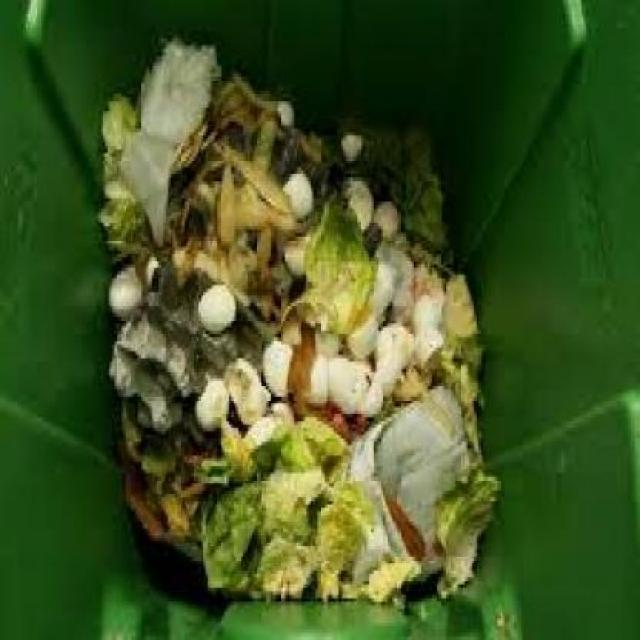garbage: (89, 22, 516, 610)
